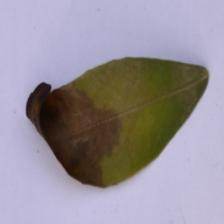black spot: (10, 79, 135, 172)
